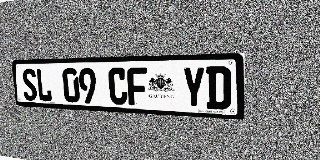0: (62, 68, 80, 103)
9: (78, 68, 97, 104)
C: (108, 67, 128, 105)
D: (206, 66, 231, 110)
F: (127, 67, 148, 106)
L: (35, 68, 52, 102)
S: (21, 69, 38, 101)
Y: (182, 66, 205, 109)
